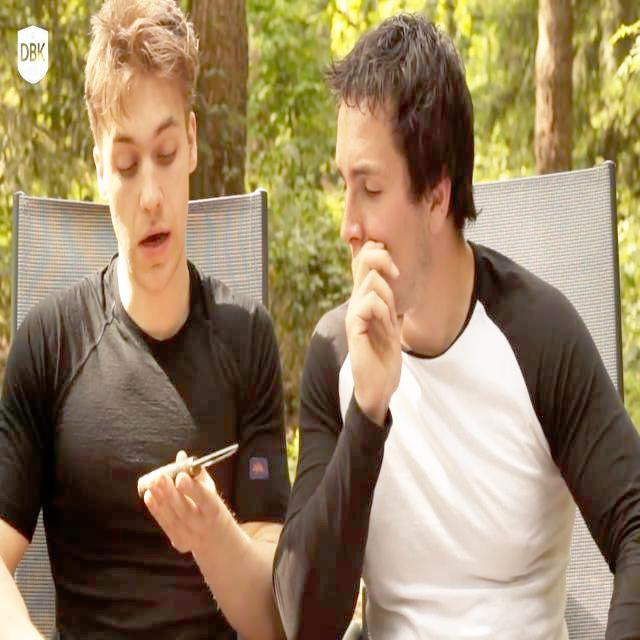Knife: (131, 419, 241, 508)
